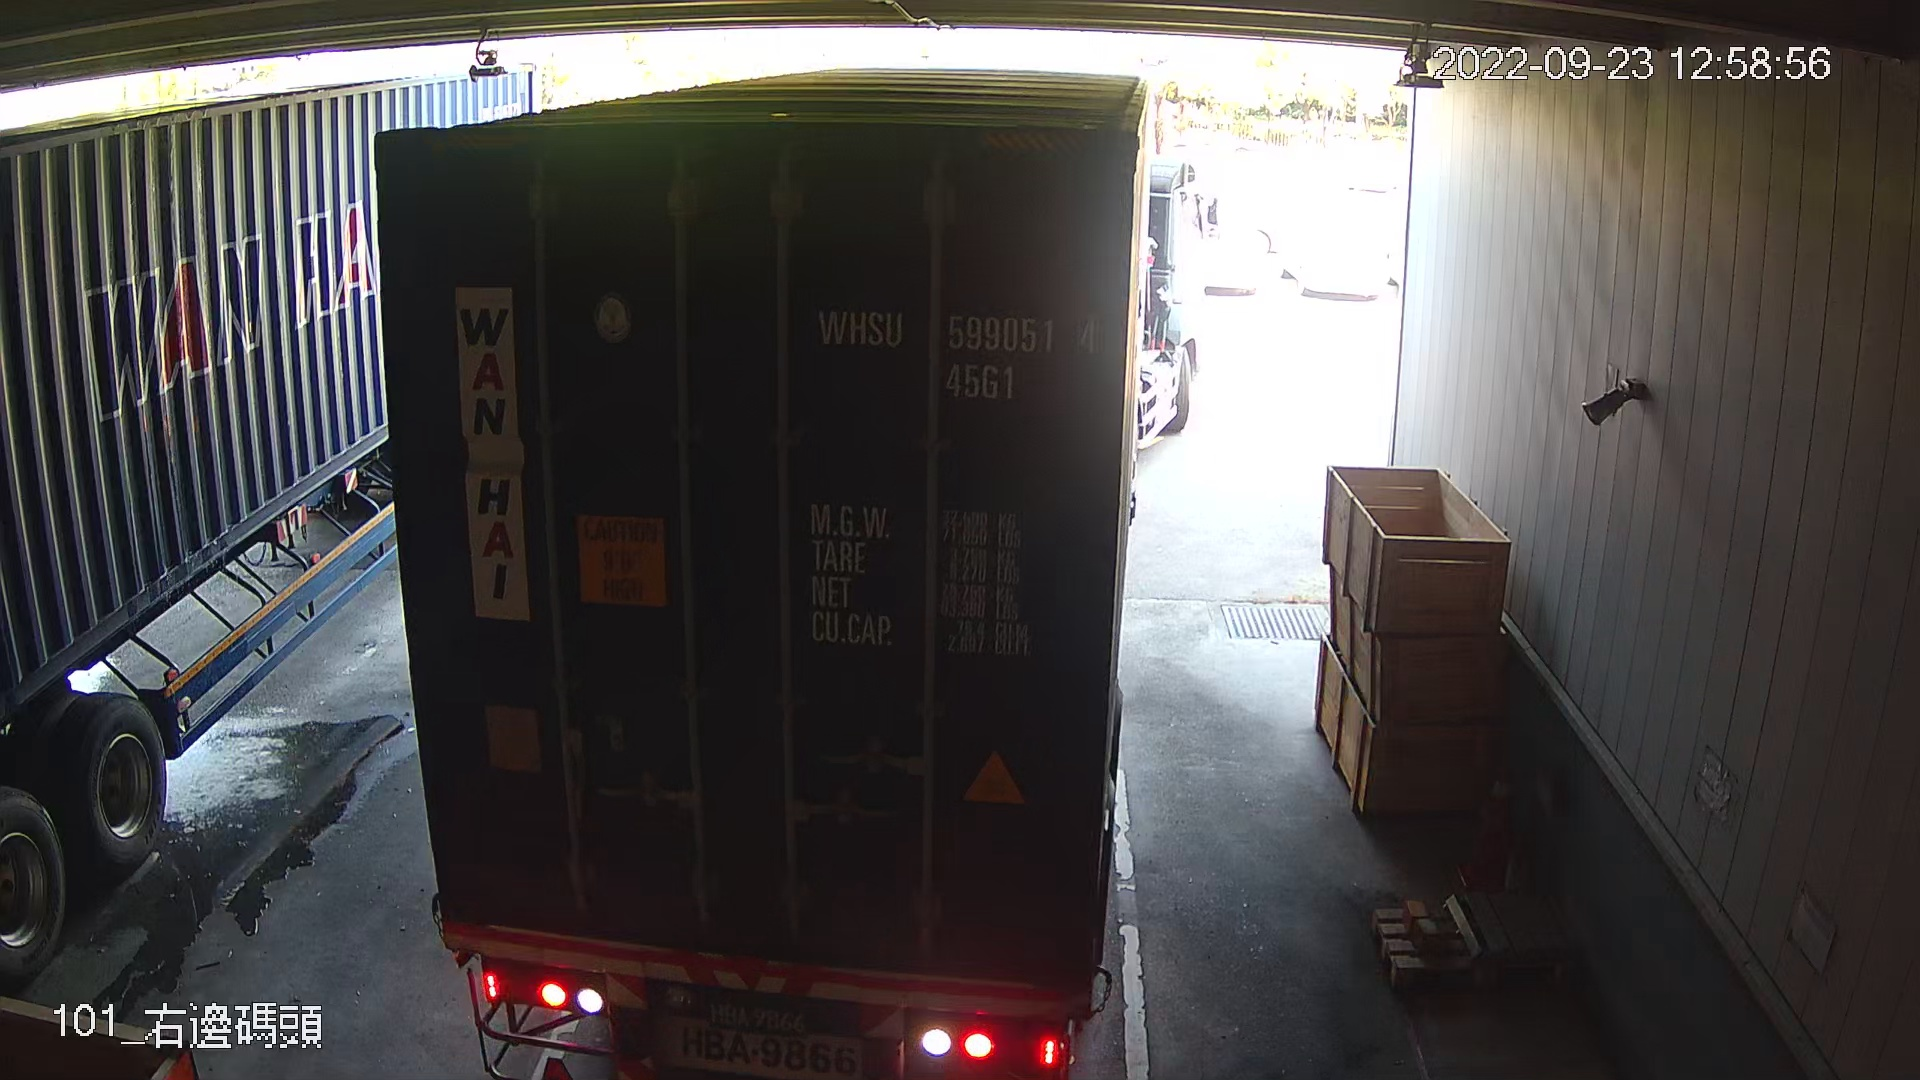container: (803, 286, 1106, 409)
